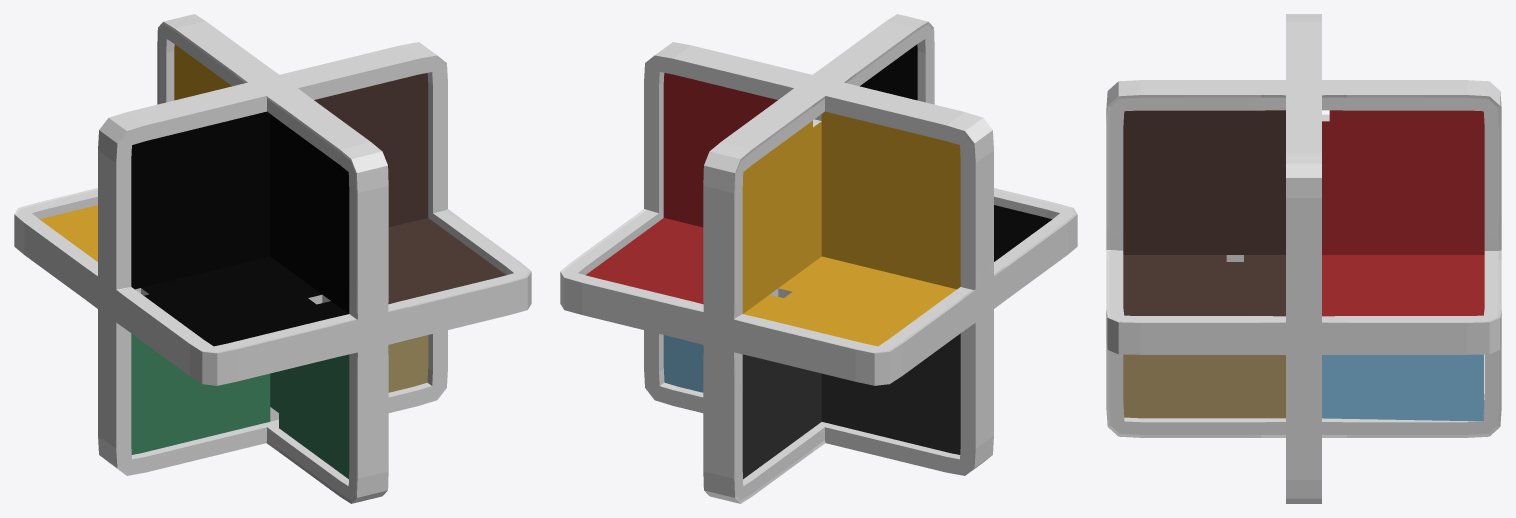
Rendered from Labyrinth _ selejt.fbx.
The picture shows the model from 3 angles, left to right: view 1: azimuth 30°, elevation 25°; view 2: azimuth 150°, elevation 25°; view 3: azimuth 270°, elevation 25°; orthographic projection.
Visible parts, largest first — view 1: Cube.010; view 2: Cube.010; view 3: Cube.010.
Boxes of the visible parts, x1,y1,x2,y2 form: Cube.010: (14,14,531,503); Cube.010: (560,14,1077,503); Cube.010: (1106,14,1501,503).
Bounding box in the file's own units: 2200 × 2200 × 2300.
